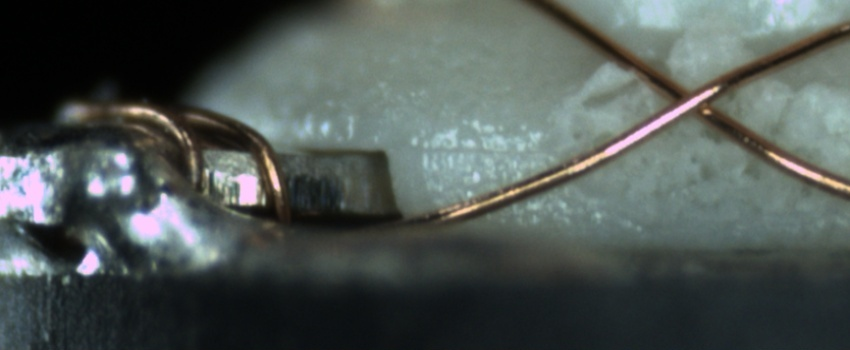CL: (644, 64, 734, 131)
DL: (403, 121, 540, 185)
TE: (57, 94, 295, 229)
